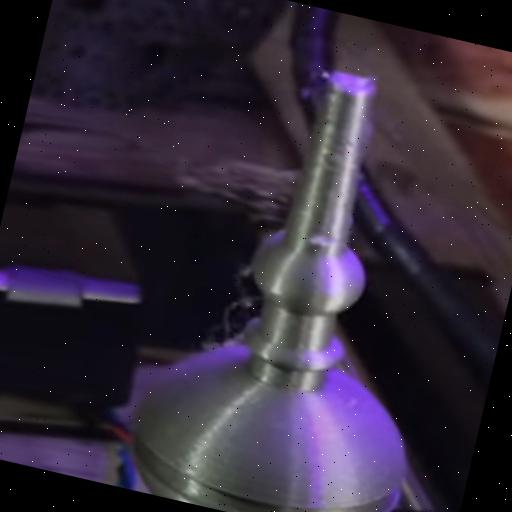stringing: (184, 148, 310, 236)
